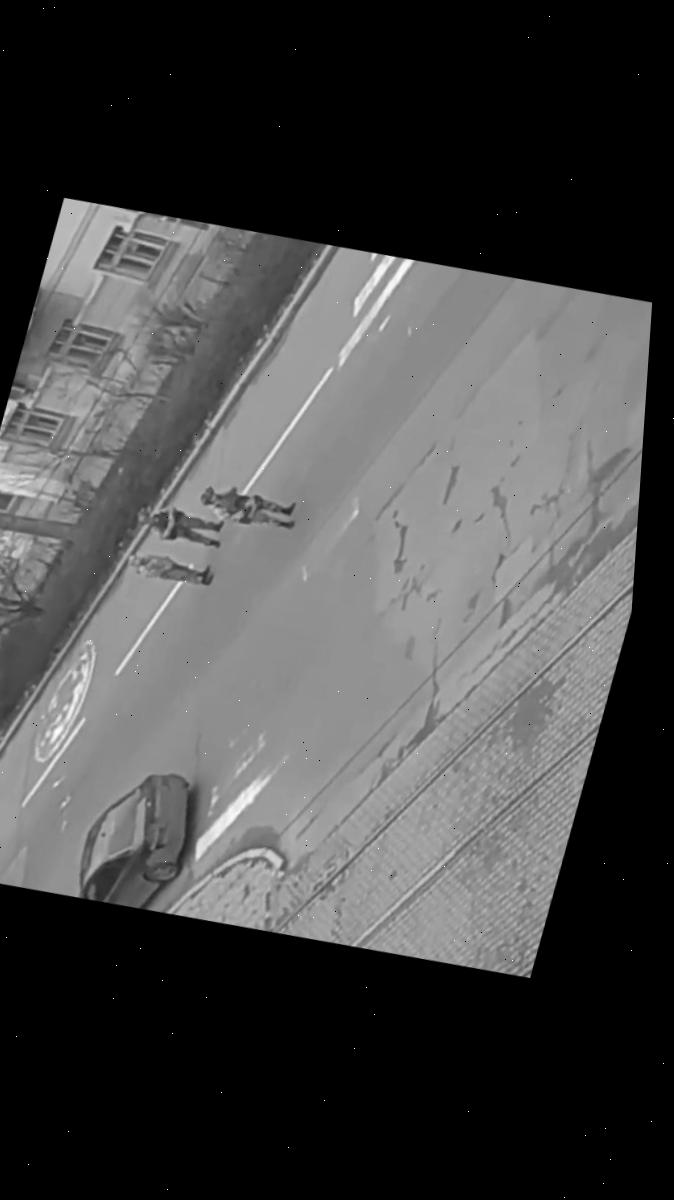car: (67, 758, 203, 916)
person: (195, 477, 302, 538), (129, 497, 229, 554), (123, 546, 217, 593)
